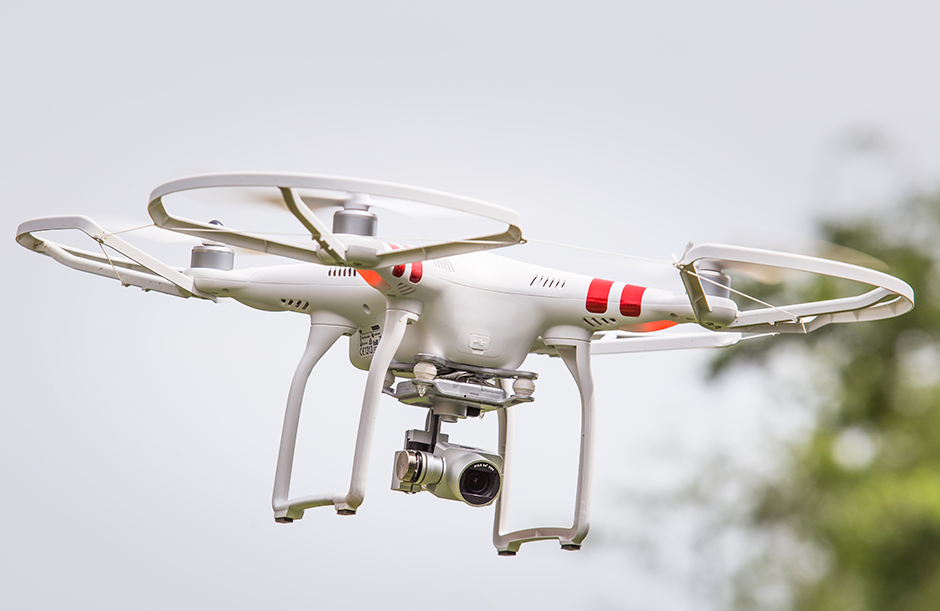drone: (12, 164, 918, 557)
